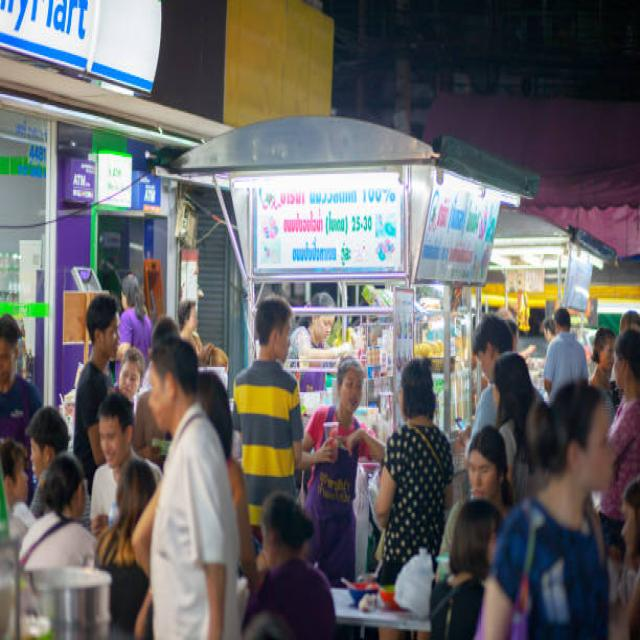Emperan: (172, 115, 517, 530)
